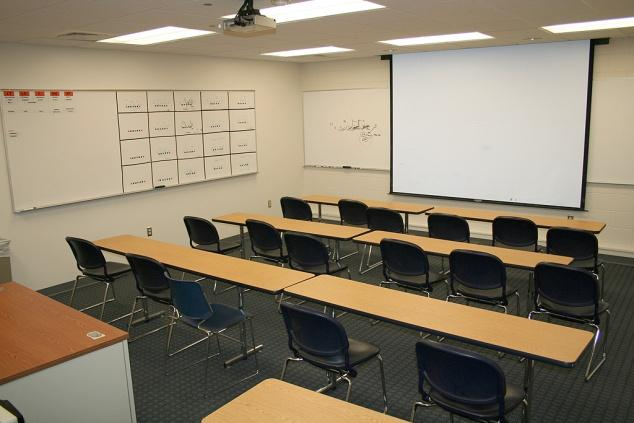Kursi: (277, 300, 387, 415), (162, 269, 259, 397), (409, 339, 529, 422), (525, 261, 611, 333), (63, 235, 134, 322), (441, 248, 519, 314), (375, 237, 448, 297), (282, 231, 349, 277), (182, 214, 239, 252), (246, 218, 287, 263)
Meja: (283, 271, 596, 369), (90, 231, 316, 294), (351, 227, 574, 273), (211, 210, 370, 244)
Whiteboard: (0, 87, 258, 213), (301, 85, 391, 173)
